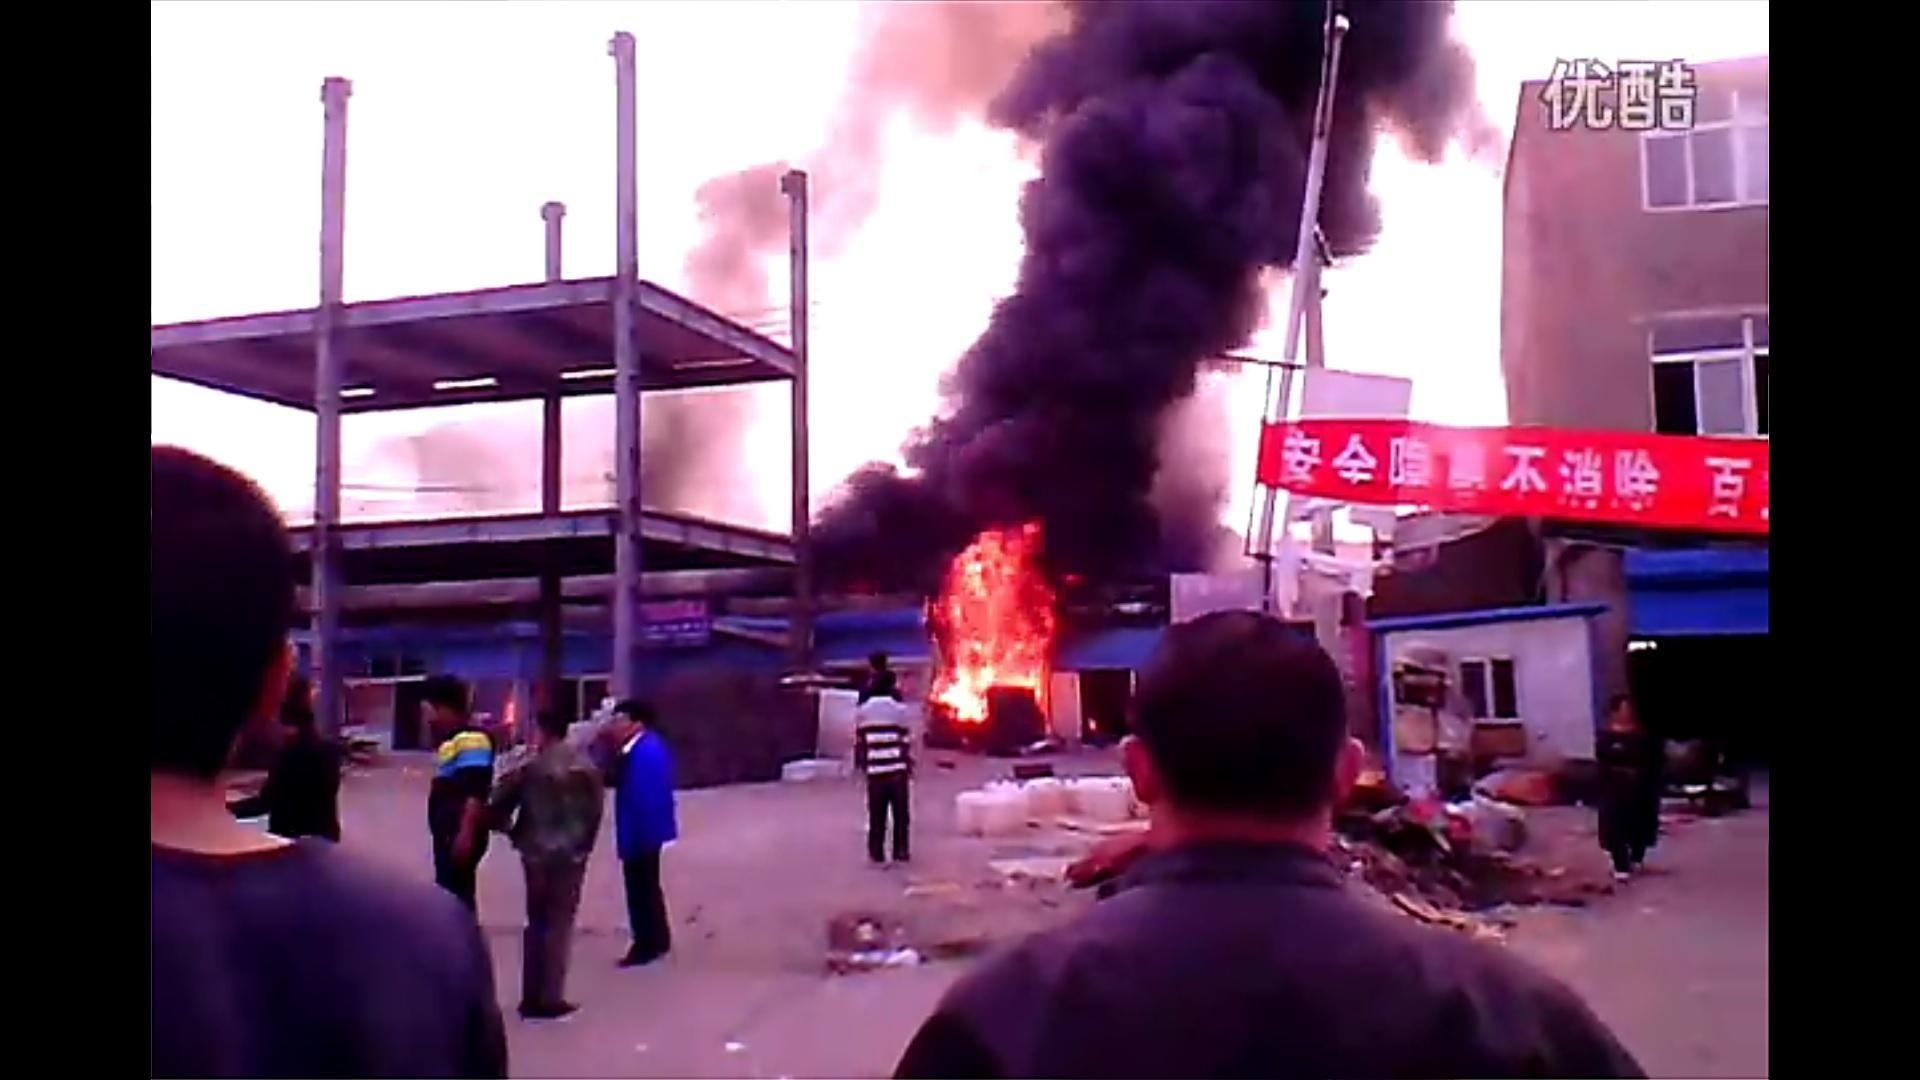fire: (927, 524, 1064, 724)
